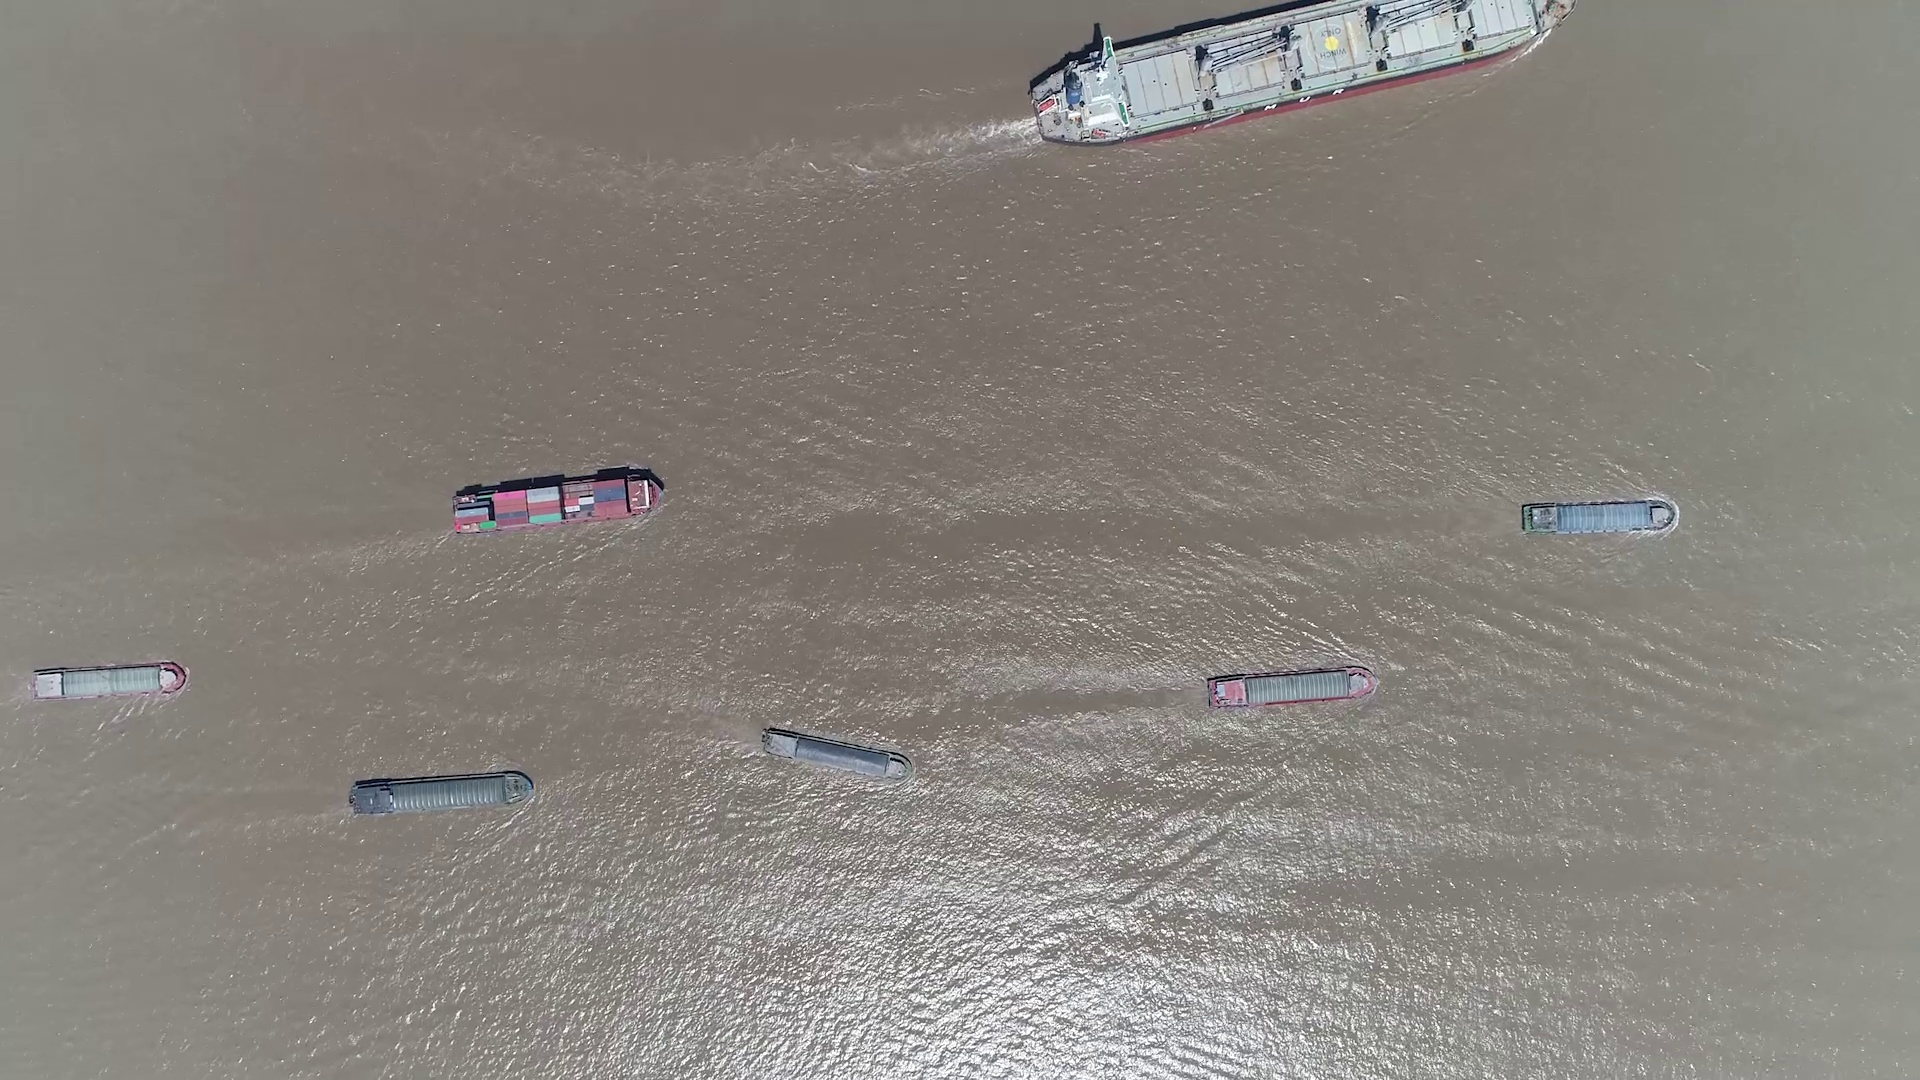ship: (1029, 3, 1575, 145), (451, 469, 665, 535), (760, 727, 913, 783), (349, 770, 533, 815), (1205, 666, 1377, 709), (32, 662, 187, 700), (1520, 500, 1676, 535)
